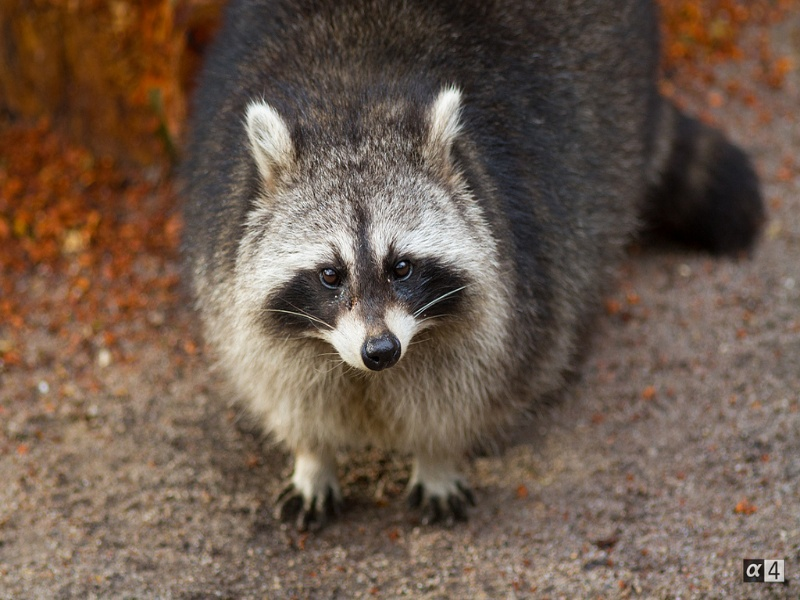raccoon: (177, 1, 758, 537)
